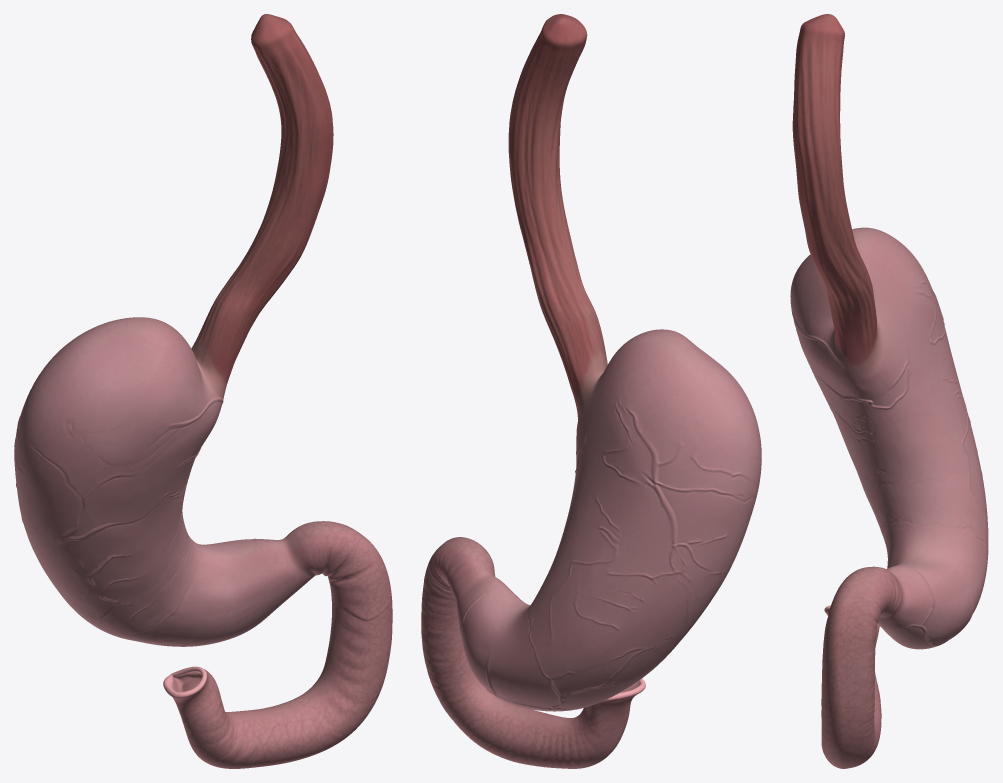
3 views of the same model, side by side, from view 1: azimuth 30°, elevation 25°; view 2: azimuth 150°, elevation 25°; view 3: azimuth 270°, elevation 25° (orthographic). The views are drawn at different scales.
Size of the model in its own units: 0.9164 by 1.9 by 0.4689.
Materials: 1 (1 with a texture image).
